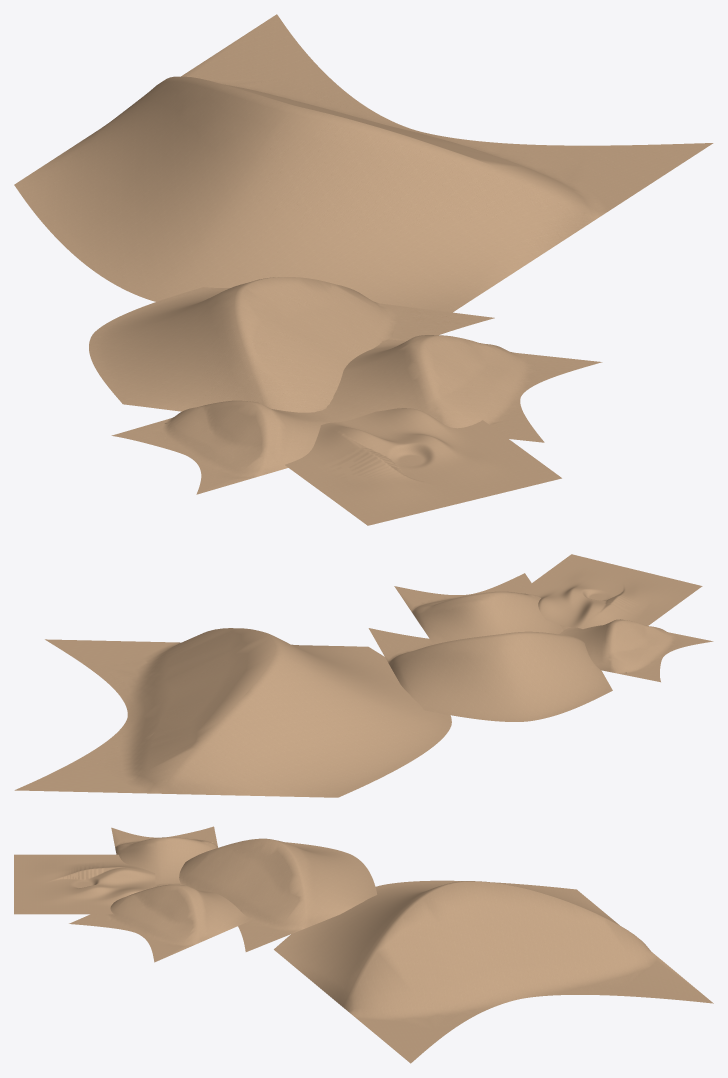
File: desert-terrain.glb
The picture shows the model from 3 angles, top to bottom: view 1: azimuth 30°, elevation 25°; view 2: azimuth 150°, elevation 25°; view 3: azimuth 270°, elevation 25°; orthographic projection. The views are drawn at different scales.
Visible parts, largest first — view 1: Distant Horizon Dune.001, Background Far Ridge.001, Desert Base Terrain.001, Background Dune Right.001, Background Dune Left.001; view 2: Distant Horizon Dune.001, Background Far Ridge.001, Desert Base Terrain.001, Background Dune Right.001, Background Dune Left.001; view 3: Distant Horizon Dune.001, Background Far Ridge.001, Desert Base Terrain.001, Background Dune Right.001, Background Dune Left.001.
Part boxes in pixels (box(x1,y1,x2,y2)): Distant Horizon Dune.001: box(14, 14, 713, 312); Background Far Ridge.001: box(89, 277, 494, 421); Desert Base Terrain.001: box(285, 408, 561, 525); Background Dune Right.001: box(323, 335, 602, 442); Background Dune Left.001: box(111, 400, 341, 494); Distant Horizon Dune.001: box(14, 628, 451, 797); Background Far Ridge.001: box(368, 625, 612, 721); Desert Base Terrain.001: box(519, 554, 702, 628); Background Dune Right.001: box(394, 573, 563, 644); Background Dune Left.001: box(559, 619, 713, 682); Distant Horizon Dune.001: box(274, 880, 713, 1063); Background Far Ridge.001: box(155, 838, 377, 951); Desert Base Terrain.001: box(14, 854, 155, 914); Background Dune Right.001: box(69, 883, 250, 962); Background Dune Left.001: box(111, 826, 217, 883).
Bounding box in the file's own units: 374 × 48.28 × 476.
Materials: 1 (1 with a texture image).
